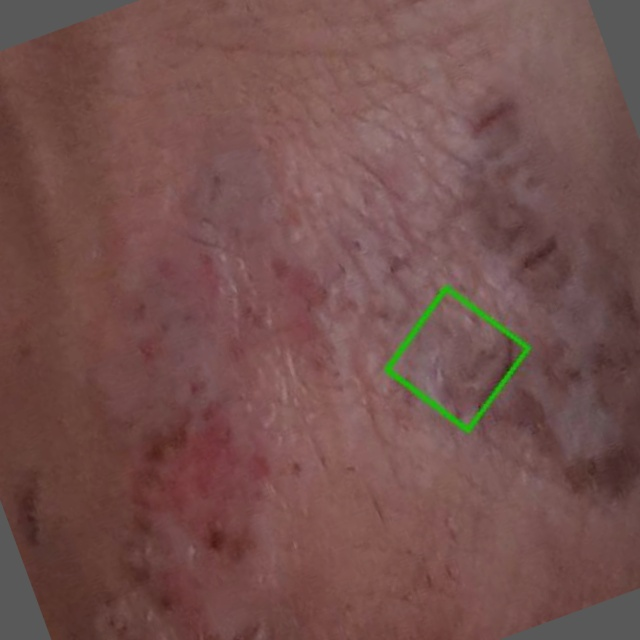Contact Dermatitis: (386, 289, 527, 430)
